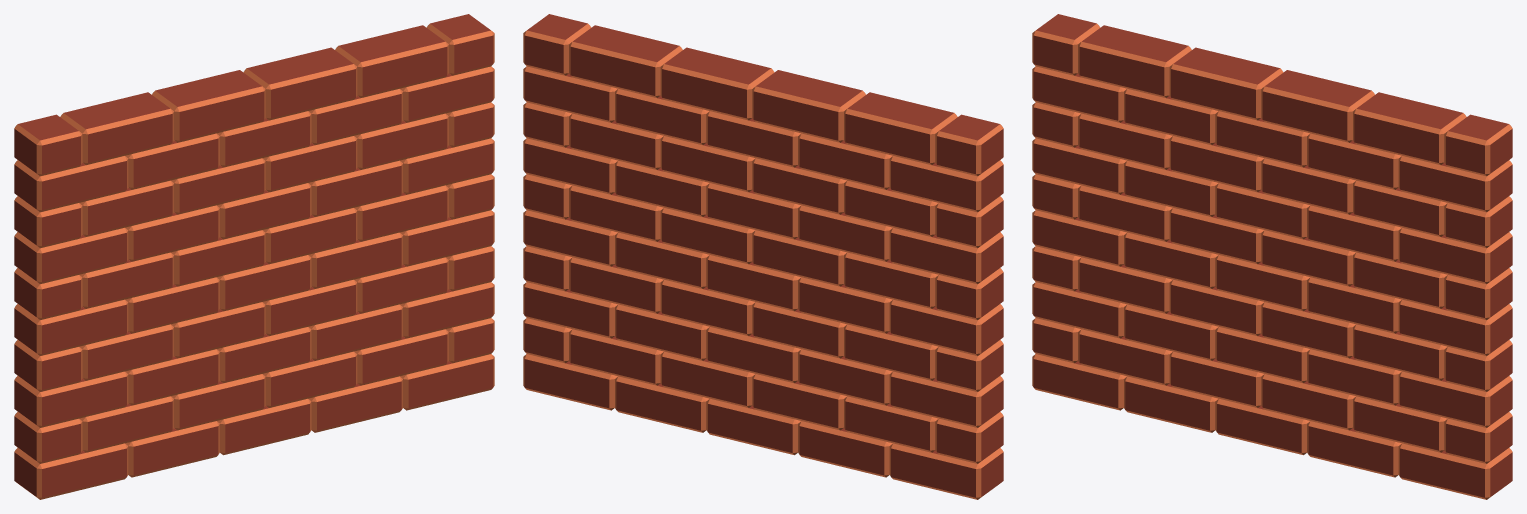
File: WallModel.fbx
3 renders of one model, left to right at view 1: azimuth 30°, elevation 25°; view 2: azimuth 150°, elevation 25°; view 3: azimuth 330°, elevation 25°, orthographic.
Parts seen in each view (by area): view 1: Brick.043, Brick.044, Brick.041, Brick.042, Brick, Brick.009, Brick.036, Brick.018, Brick.027, Brick.034, Brick.007, Brick.016 (+43 smaller); view 2: Brick.043, Brick.044, Brick.041, Brick.042, Brick, Brick.009, Brick.036, Brick.018, Brick.027, Brick.034, Brick.007, Brick.016 (+43 smaller); view 3: Brick.042, Brick.041, Brick.044, Brick.043, Brick.004, Brick.013, Brick.040, Brick.022, Brick.031, Brick.033, Brick.006, Brick.015 (+43 smaller).
Part boxes in pixels (<box>): Brick.043: <box>243,47,357,120</box>; Brick.044: <box>335,25,448,97</box>; Brick.041: <box>60,92,173,165</box>; Brick.042: <box>152,70,265,142</box>; Brick: <box>14,443,128,499</box>; Brick.009: <box>14,371,128,427</box>; Brick.036: <box>14,156,128,212</box>; Brick.018: <box>14,299,128,355</box>; Brick.027: <box>14,227,128,284</box>; Brick.034: <box>262,136,357,192</box>; Brick.007: <box>263,351,357,407</box>; Brick.016: <box>262,279,357,336</box>; Brick.043: <box>660,47,774,120</box>; Brick.044: <box>569,25,682,97</box>; Brick.041: <box>844,92,957,165</box>; Brick.042: <box>752,70,865,142</box>; Brick: <box>889,443,1003,499</box>; Brick.009: <box>889,371,1003,427</box>; Brick.036: <box>889,156,1003,212</box>; Brick.018: <box>889,299,1003,355</box>; Brick.027: <box>889,227,1003,284</box>; Brick.034: <box>660,136,755,192</box>; Brick.007: <box>660,351,754,407</box>; Brick.016: <box>660,279,755,336</box>; Brick.042: <box>1169,47,1283,120</box>; Brick.041: <box>1078,25,1191,97</box>; Brick.044: <box>1353,92,1466,165</box>; Brick.043: <box>1261,70,1374,142</box>; Brick.004: <box>1398,443,1512,499</box>; Brick.013: <box>1398,371,1512,427</box>; Brick.040: <box>1398,156,1512,212</box>; Brick.022: <box>1398,299,1512,355</box>; Brick.031: <box>1398,227,1512,284</box>; Brick.033: <box>1169,136,1264,192</box>; Brick.006: <box>1169,351,1263,407</box>; Brick.015: <box>1169,279,1264,336</box>.
Size of the model in its own units: 400 by 300 by 40.
